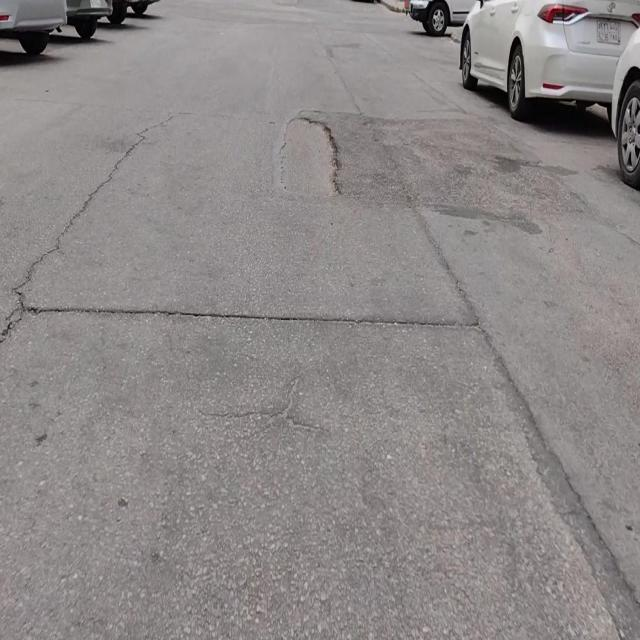Potholes: (280, 115, 340, 198)
